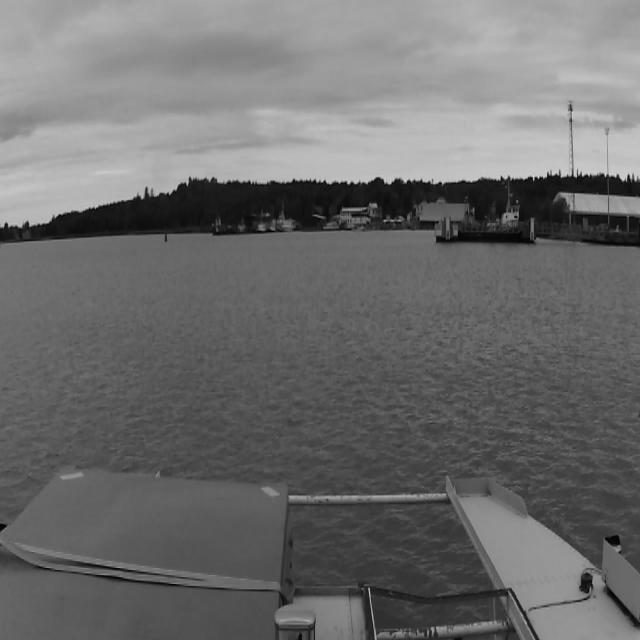buoy: (165, 232, 168, 242)
ship: (428, 194, 542, 250)
